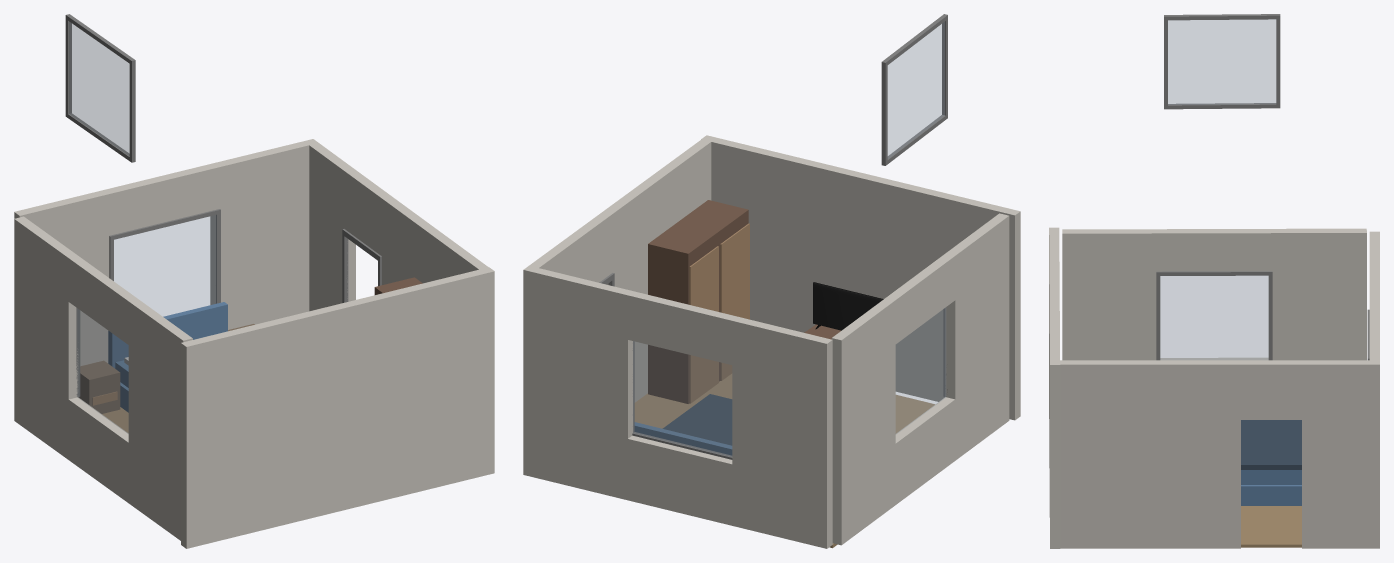
The model's file is master-bedroom.glb.
The picture shows the model from 3 angles, left to right: view 1: azimuth 30°, elevation 25°; view 2: azimuth 150°, elevation 25°; view 3: azimuth 270°, elevation 25°; orthographic projection. The views are drawn at different scales.
Parts seen in each view (by area): view 1: wall_left.001, wb_r, wb_r.001, wb_l.001, glass, wsd_bk, wb_l, glass.002, wsd_fw, wb_top, glass.001, wb_bot.001 (+7 smaller); view 2: wall_left.001, wb_l, wb_r, wb_r.001, wb_l.001, glass, wsd_fw, body.002, wb_bot, glass.002, wb_top, glass.001 (+11 smaller); view 3: wsd_fw, wsd_bk, wb_r.001, wb_l.001, glass.002, glass.001, wb_top.001, wall_left.001, wsd_tp, blanket, floor, base (+10 smaller).
Part boxes in pixels (x1,y1,x2,y2): wall_left.001: [181, 267, 494, 548]; wb_r: [210, 141, 309, 329]; wb_r.001: [14, 216, 78, 459]; wb_l.001: [128, 299, 192, 540]; glass: [114, 215, 216, 316]; wsd_bk: [304, 139, 355, 311]; wb_l: [14, 189, 112, 365]; glass.002: [69, 22, 129, 155]; wsd_fw: [380, 194, 488, 284]; wb_top: [108, 164, 215, 234]; glass.001: [77, 309, 128, 433]; wb_bot.001: [68, 397, 128, 502]; wall_left.001: [701, 135, 1020, 420]; wb_l: [732, 316, 832, 548]; wb_r: [533, 268, 633, 500]; wb_r.001: [831, 298, 895, 545]; wb_l.001: [945, 213, 1009, 460]; glass: [633, 341, 731, 456]; wsd_fw: [601, 137, 712, 402]; body.002: [648, 200, 748, 403]; wb_bot: [628, 435, 732, 525]; glass.002: [888, 22, 944, 158]; wb_top: [628, 291, 737, 364]; glass.001: [896, 307, 945, 433]; wsd_fw: [1055, 360, 1240, 548]; wsd_bk: [1302, 360, 1379, 548]; wb_r.001: [1268, 228, 1366, 360]; wb_l.001: [1062, 229, 1160, 360]; glass.002: [1168, 19, 1275, 104]; glass.001: [1160, 276, 1268, 359]; wb_top.001: [1160, 229, 1268, 271]; wall_left.001: [1049, 227, 1060, 548]; wsd_tp: [1241, 360, 1301, 419]; blanket: [1241, 420, 1301, 469]; floor: [1241, 506, 1301, 547]; base: [1241, 485, 1301, 505].
Bounding box in the file's own units: 4.8 × 6.58 × 4.89.
